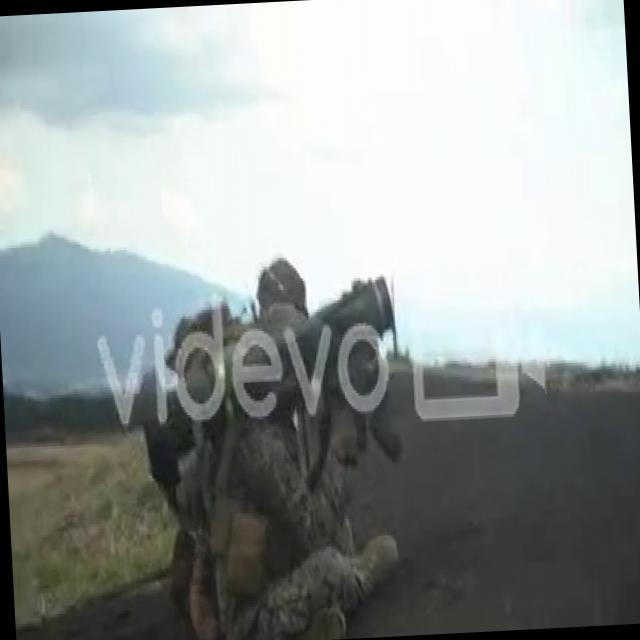rocket: (136, 273, 398, 504)
